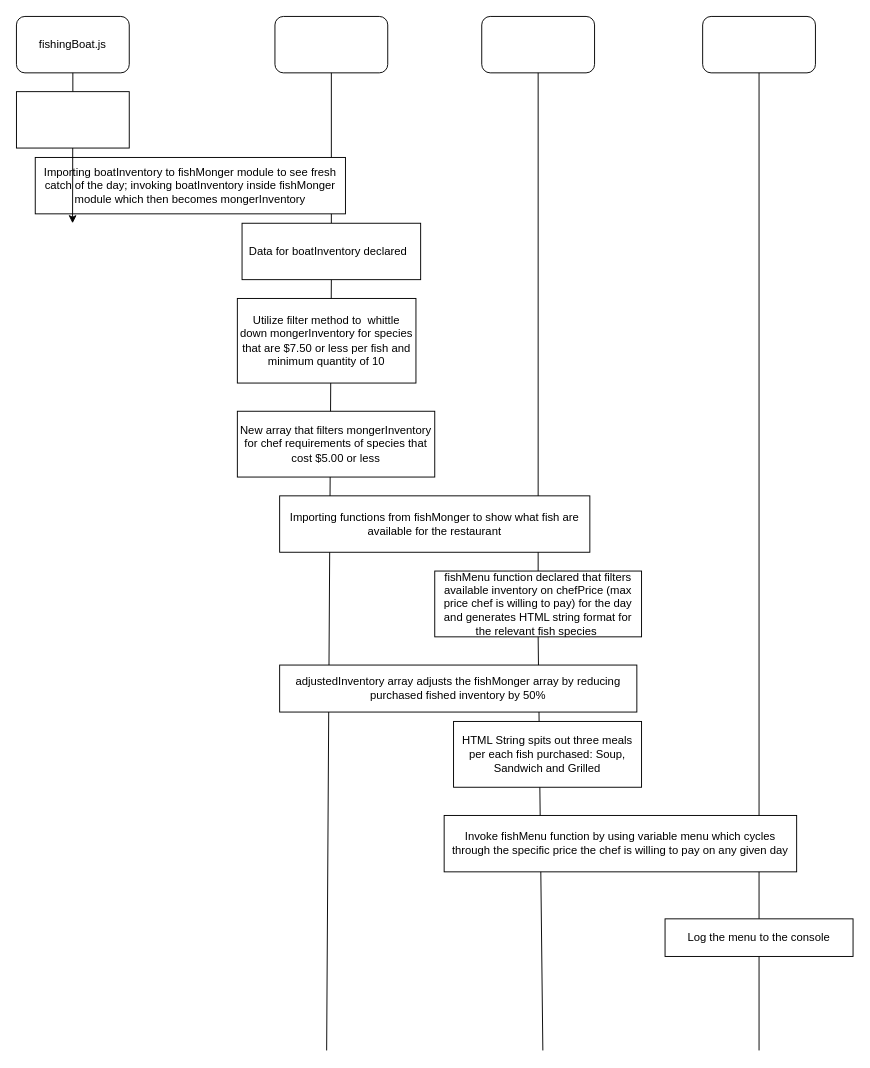
Some shapes in this 870 by 1068 pixel diagram are drawn without their labels. Each missing label, with the box of its shape:
fishMonger.js: (274, 16, 388, 73)
Function: boatInventory (stores today's catch data): (16, 91, 129, 148)
main.js: (702, 16, 815, 73)
restaurants.js: (481, 16, 595, 73)
